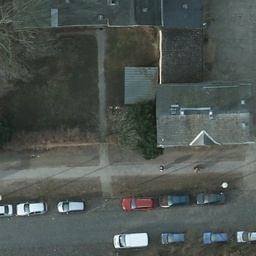car: (16, 197, 48, 218), (122, 194, 154, 211), (159, 192, 190, 208), (197, 190, 226, 207), (200, 230, 233, 244), (58, 196, 85, 213), (160, 229, 187, 244), (0, 200, 12, 217)
van: (114, 232, 150, 248)
